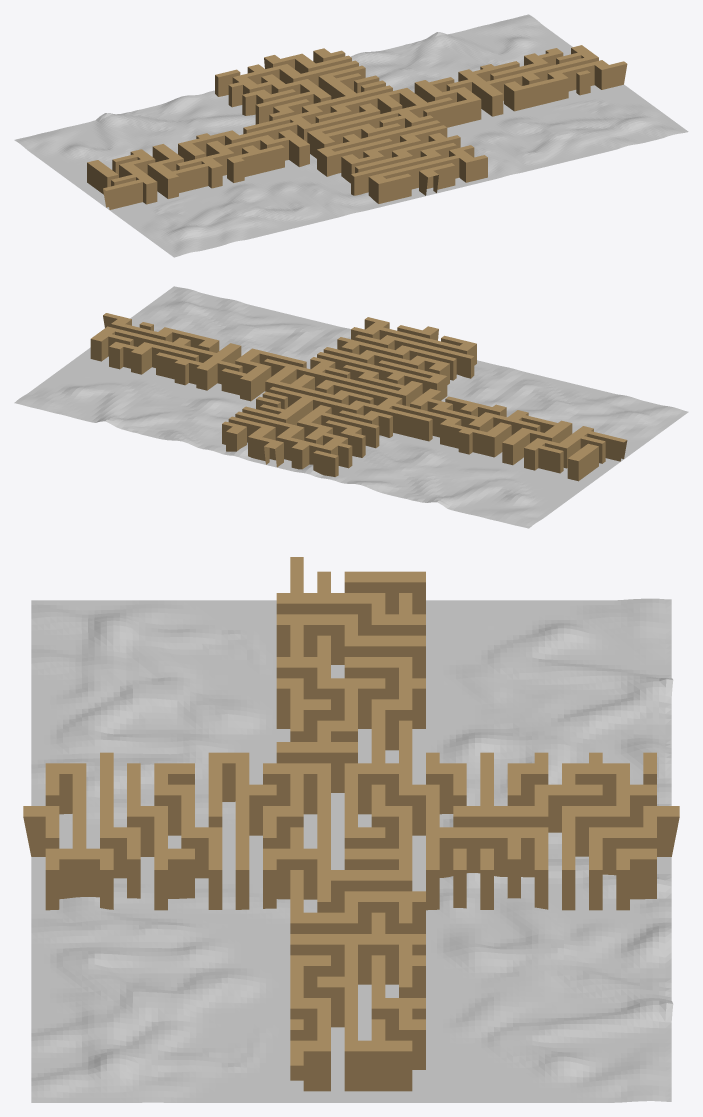
File: easy.obj
3 renders of one model, top to bottom at view 1: azimuth 30°, elevation 25°; view 2: azimuth 150°, elevation 25°; view 3: azimuth 270°, elevation 25°, orthographic. The views are drawn at different scales.
Parts seen in each view (by area): view 1: floor_floor_Cube_Cube_Material.000_floor_Cube_Cube_Material.000, wall_floor_Cube_Cube_Material.000_floor_Cube_Cube_Material..000; view 2: floor_floor_Cube_Cube_Material.000_floor_Cube_Cube_Material.000, wall_floor_Cube_Cube_Material.000_floor_Cube_Cube_Material..000; view 3: floor_floor_Cube_Cube_Material.000_floor_Cube_Cube_Material.000, wall_floor_Cube_Cube_Material.000_floor_Cube_Cube_Material..000.
Boxes of the visible parts, box(x1,y1,x2,y2) form: floor_floor_Cube_Cube_Material.000_floor_Cube_Cube_Material.000: box(14, 14, 688, 257); wall_floor_Cube_Cube_Material.000_floor_Cube_Cube_Material..000: box(87, 45, 627, 209); floor_floor_Cube_Cube_Material.000_floor_Cube_Cube_Material.000: box(14, 286, 688, 528); wall_floor_Cube_Cube_Material.000_floor_Cube_Cube_Material..000: box(90, 313, 627, 481); floor_floor_Cube_Cube_Material.000_floor_Cube_Cube_Material.000: box(31, 598, 673, 1102); wall_floor_Cube_Cube_Material.000_floor_Cube_Cube_Material..000: box(23, 557, 679, 1091).
Size of the model in its own units: 26.4 by 0.9752 by 14.4.
